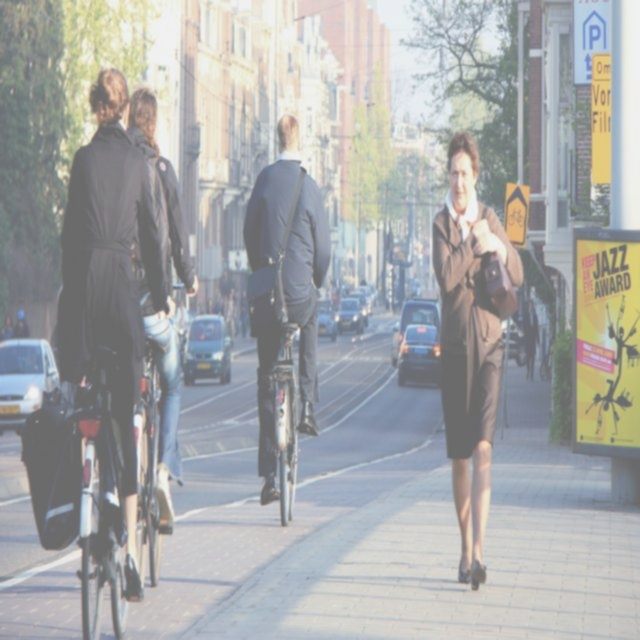pessoa: (52, 63, 180, 610), (428, 126, 527, 598), (240, 110, 336, 512), (125, 86, 199, 528), (197, 284, 250, 342), (522, 298, 540, 383), (315, 274, 355, 301), (1, 307, 30, 342), (175, 296, 188, 338), (424, 266, 436, 292), (27, 350, 40, 372), (359, 271, 366, 286), (413, 270, 418, 280)
